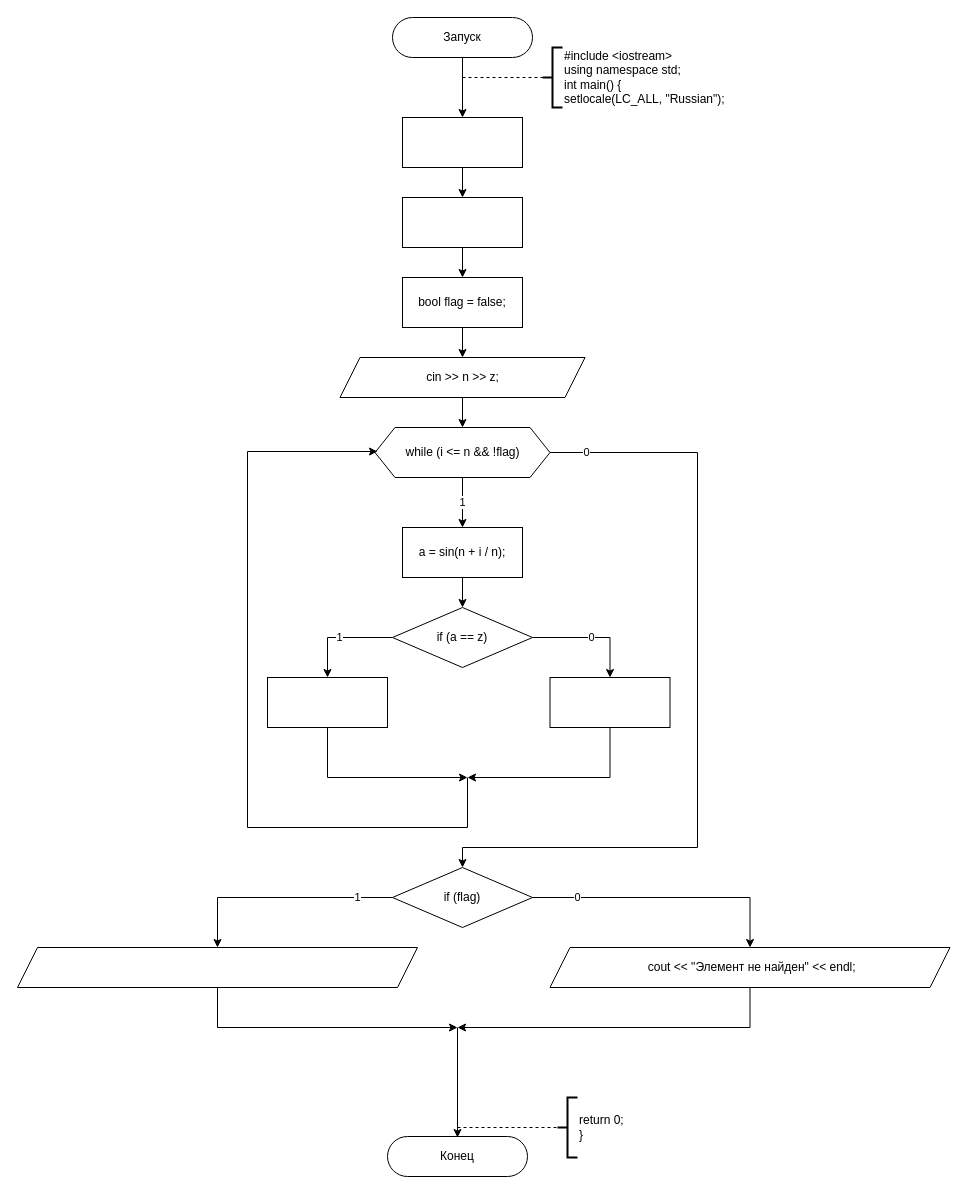
Image size: 968x1194. Some labels were removed from this diagram. The box of each missing label's shape, as (x1, y1, x2, y2) in pixels:
cout << "Элемент " << z << " найден. Его номер: " << i << endl;: (16, 946, 418, 988)
flag = true;: (266, 676, 388, 728)
float n, z, a;: (402, 116, 522, 168)
i++;: (549, 676, 670, 728)
int i = 1;: (402, 196, 522, 248)
